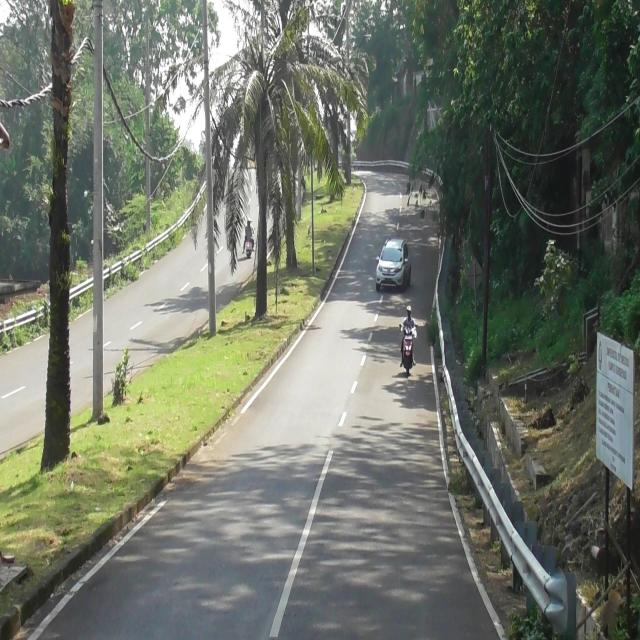motorcycle: (402, 327, 416, 375)
person: (400, 304, 417, 332)
rider_region: (400, 301, 416, 374)
